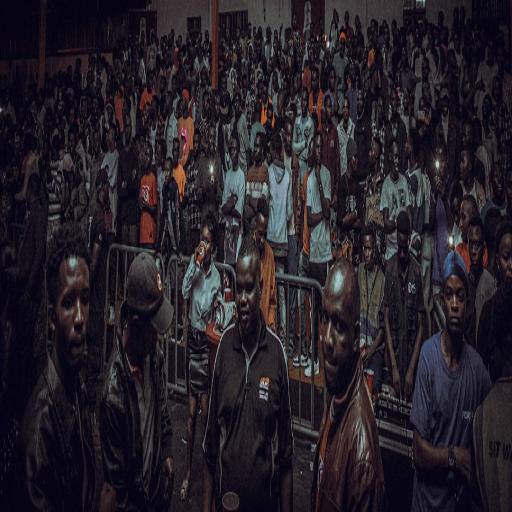face: (49, 257, 89, 373), (322, 269, 358, 395), (236, 256, 261, 337), (443, 276, 466, 338), (130, 317, 157, 359), (496, 234, 511, 283), (468, 226, 484, 268), (460, 200, 473, 242), (255, 214, 268, 255), (397, 233, 409, 269), (201, 227, 213, 262), (363, 235, 374, 268), (492, 166, 503, 198), (389, 142, 399, 176), (253, 133, 263, 166), (460, 151, 470, 183), (284, 122, 292, 154), (462, 123, 473, 146), (451, 197, 460, 225), (369, 141, 379, 166), (314, 134, 322, 165), (230, 138, 238, 169), (505, 170, 511, 204)
